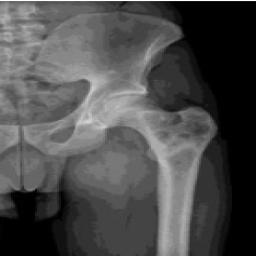cancer: (142, 109, 217, 176)
